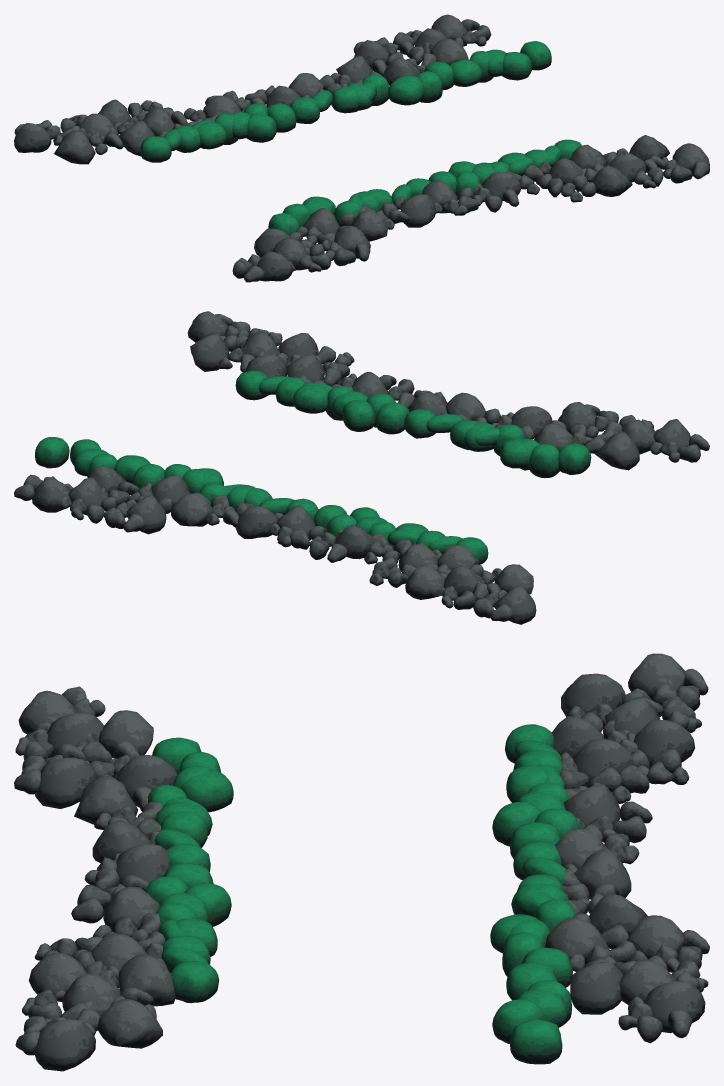
File: Props lvl 4.fbx
3 renders of one model, top to bottom at view 1: azimuth 30°, elevation 25°; view 2: azimuth 150°, elevation 25°; view 3: azimuth 270°, elevation 25°, orthographic. The views are drawn at different scales.
Visible parts, largest first — view 1: rock.007; view 2: rock.007; view 3: rock.007.
Part boxes in pixels (box(x1,y1,x2,y2)): rock.007: box(14, 14, 709, 282); rock.007: box(14, 311, 709, 624); rock.007: box(14, 653, 709, 1071).
Bounding box in the file's own units: 2908 × 172 × 2192.
